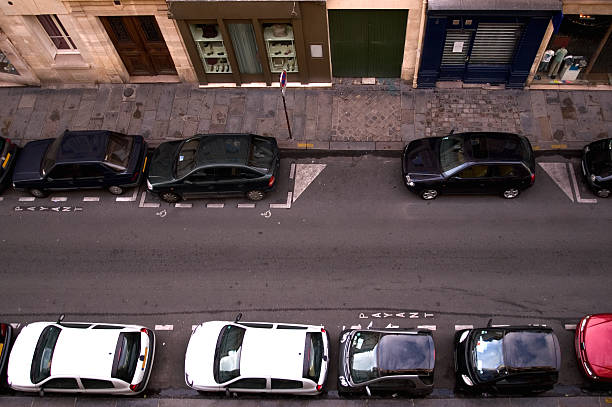car: (5, 319, 159, 395), (181, 319, 330, 394), (145, 132, 281, 203), (403, 130, 536, 200), (12, 129, 147, 196), (454, 322, 560, 396), (340, 326, 436, 398)
